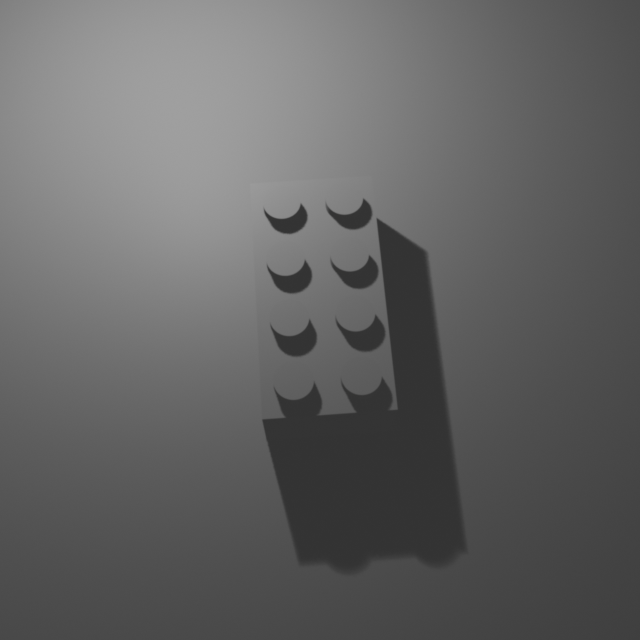lego_2x4: (249, 169, 399, 440)
